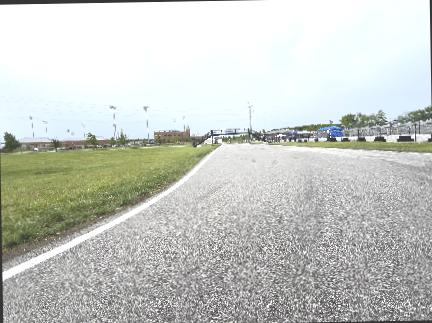Grass: (0, 146, 217, 249), (278, 142, 431, 152)
Lane: (3, 144, 431, 322)
